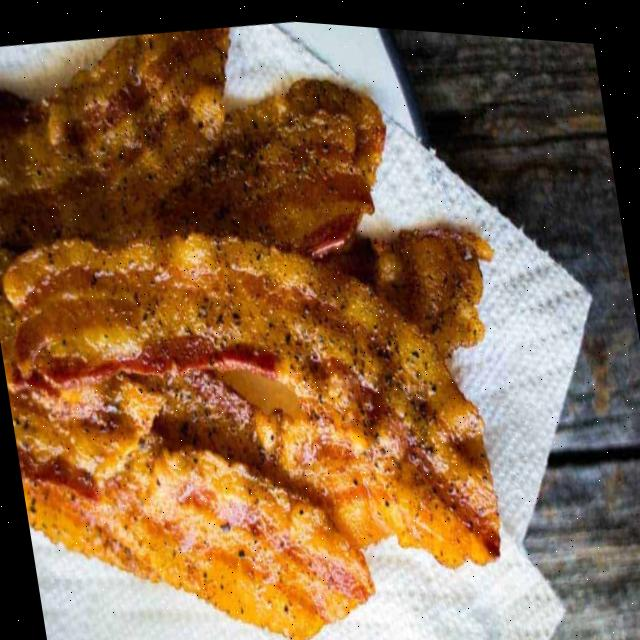Bacon: (0, 28, 499, 640)
